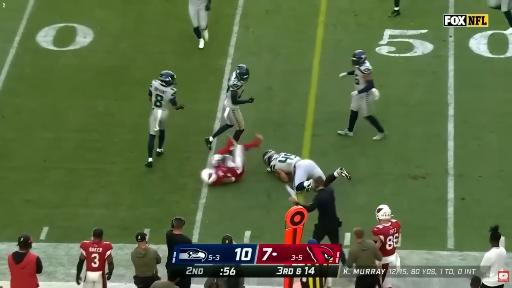Helmet: (376, 205, 392, 220), (159, 71, 175, 86), (201, 169, 217, 184), (351, 50, 366, 66), (236, 65, 249, 83), (263, 150, 275, 166)
Jersey: (372, 220, 400, 262), (80, 241, 112, 271), (150, 80, 176, 110), (225, 72, 244, 108), (211, 165, 244, 185), (270, 153, 301, 172), (355, 61, 371, 90), (189, 0, 207, 6)
Player: (338, 50, 385, 140), (205, 65, 254, 149), (146, 71, 184, 167), (201, 135, 262, 185), (263, 150, 325, 191), (372, 205, 400, 287), (76, 228, 114, 287), (263, 150, 301, 182), (189, 0, 211, 48), (488, 0, 511, 34), (389, 0, 400, 16)
